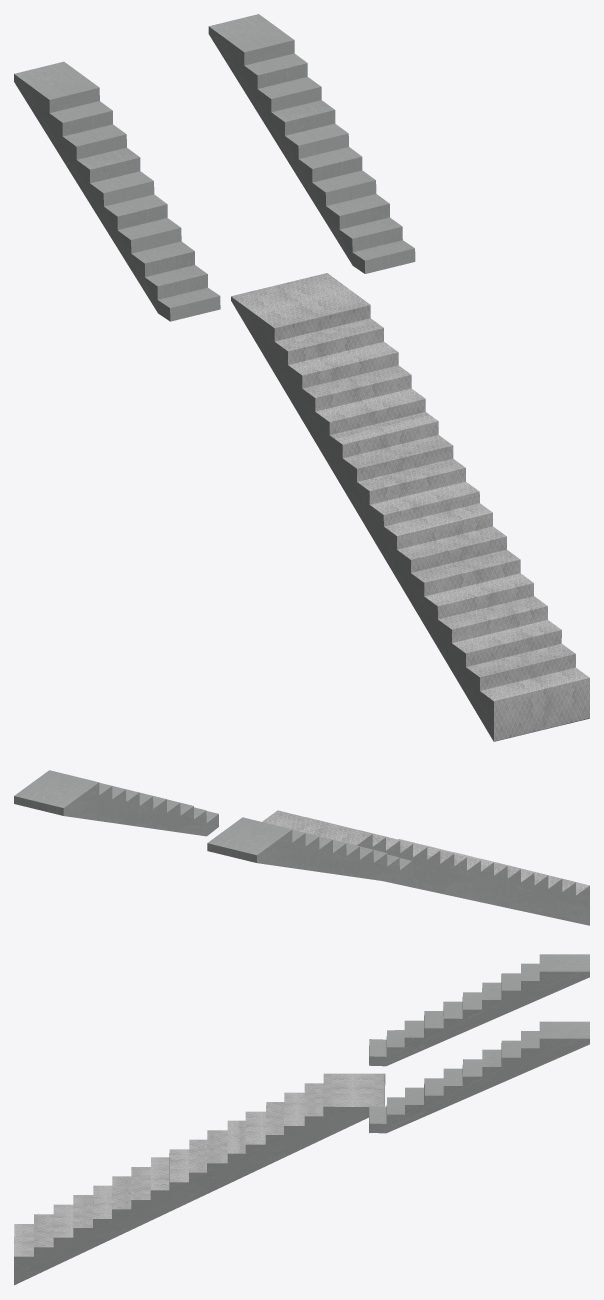
The model's file is Stair_03_Ufa.FBX.
3 renders of one model, top to bottom at view 1: azimuth 30°, elevation 25°; view 2: azimuth 150°, elevation 25°; view 3: azimuth 270°, elevation 25°, orthographic. The views are drawn at different scales.
Visible parts, largest first — view 1: Stair_03_Ufa; view 2: Stair_03_Ufa; view 3: Stair_03_Ufa.
Part boxes in pixels (left/top/right/bottom): Stair_03_Ufa: left=14, top=14, right=589, bottom=741; Stair_03_Ufa: left=14, top=770, right=589, bottom=925; Stair_03_Ufa: left=14, top=954, right=589, bottom=1285.
Bounding box in the file's own units: 4.61 × 6.96 × 13.29.
Materials: 1 (1 with a texture image).
